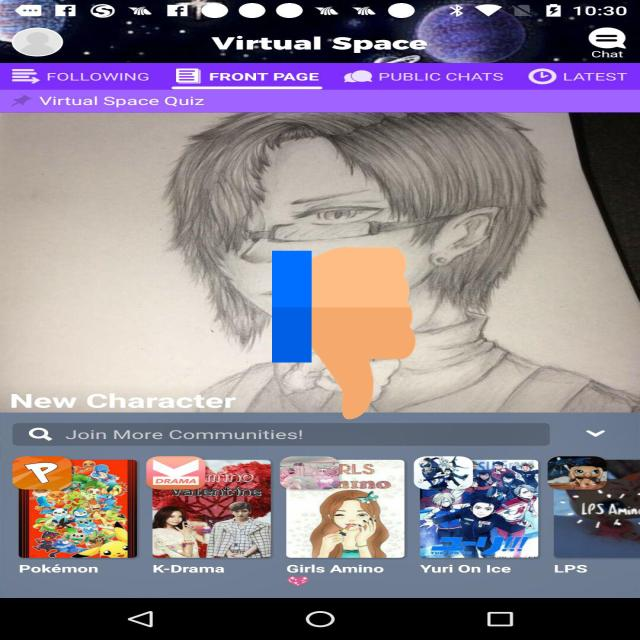obstruction: (272, 243, 415, 424)
